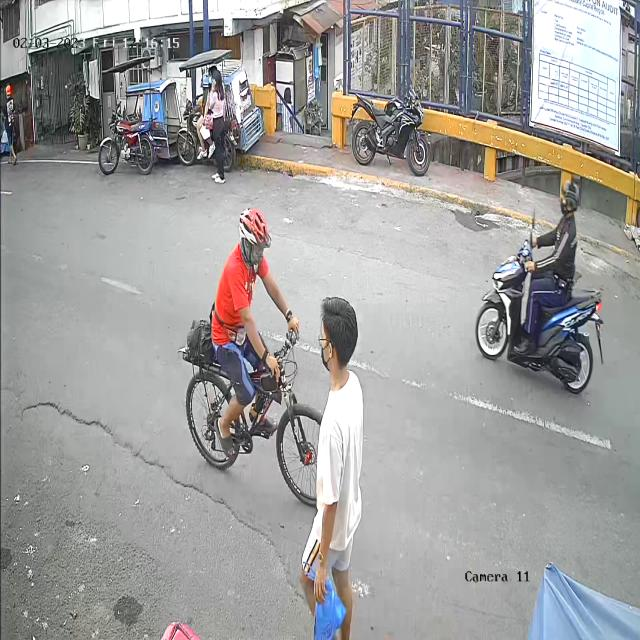human: (298, 298, 362, 640)
trash: (308, 562, 352, 640)
